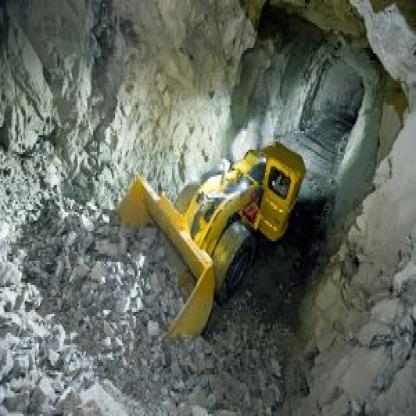bull_dozer/loader/grader: (111, 129, 312, 339)
